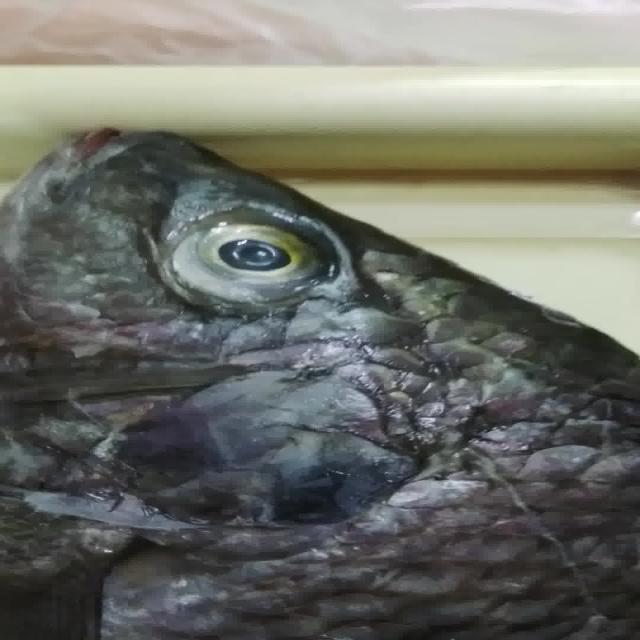Non-Fresh: (168, 190, 342, 318)
